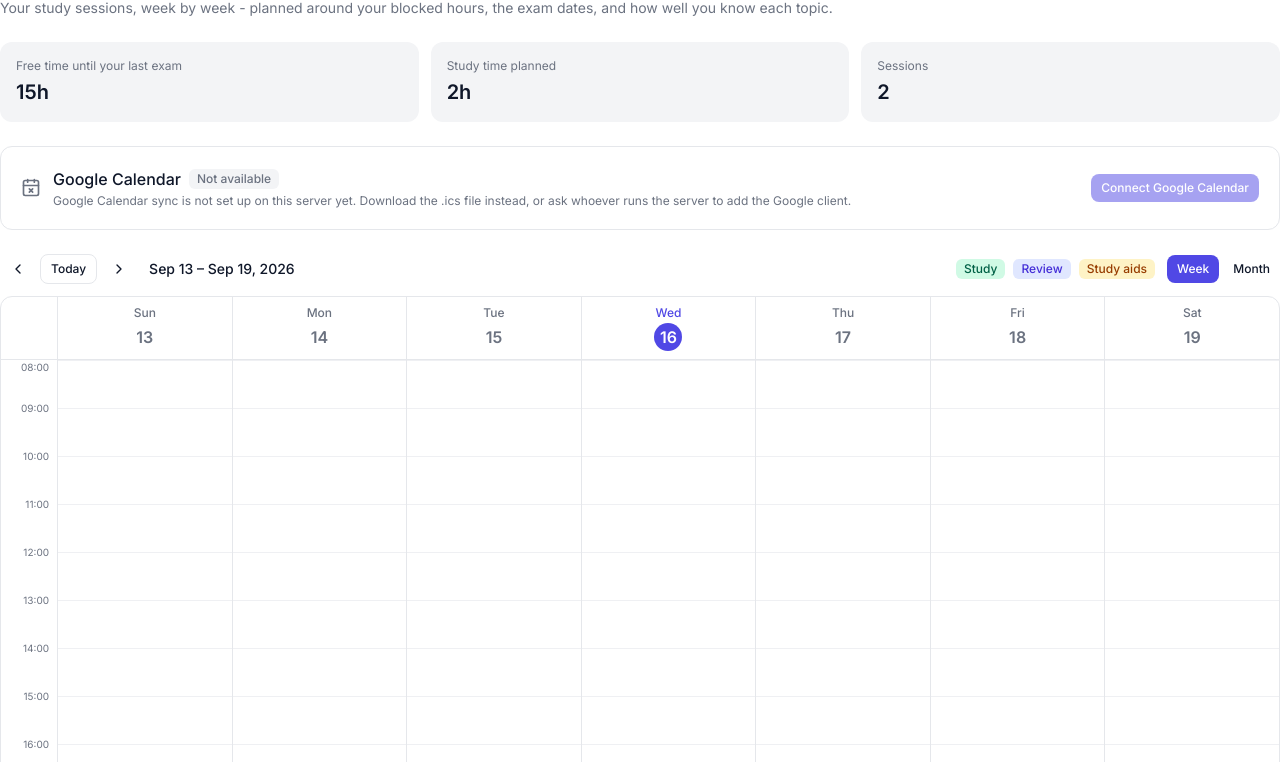
it: CalendarPage › moves between weeks
Click the button named "Next week".
click(119, 269)  # box [101,255,137,283]
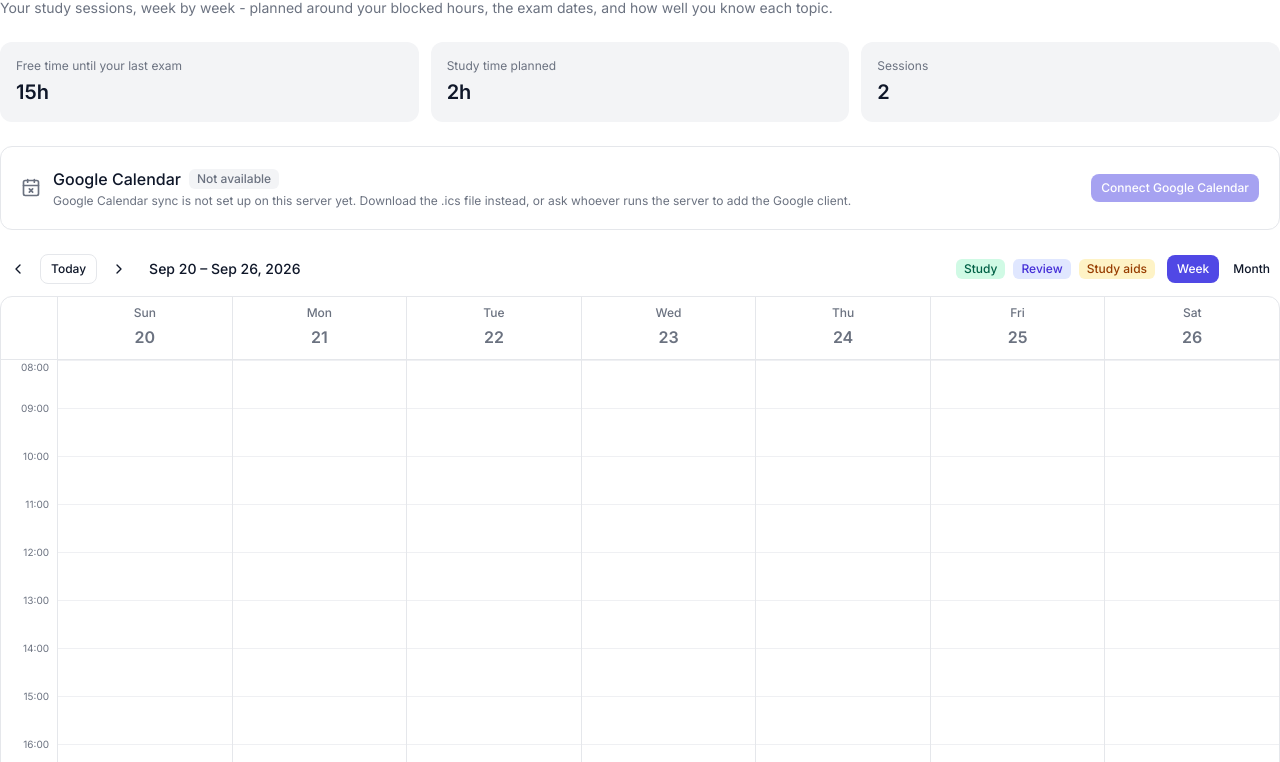
Expected: the button "Trees" is not shown
Expected: the text "Sep 20 – Sep 26, 2026" is shown, [149,259,300,279]
Click the button "Today".
click(69, 269)  # box [40,254,97,284]
(page scrolled)
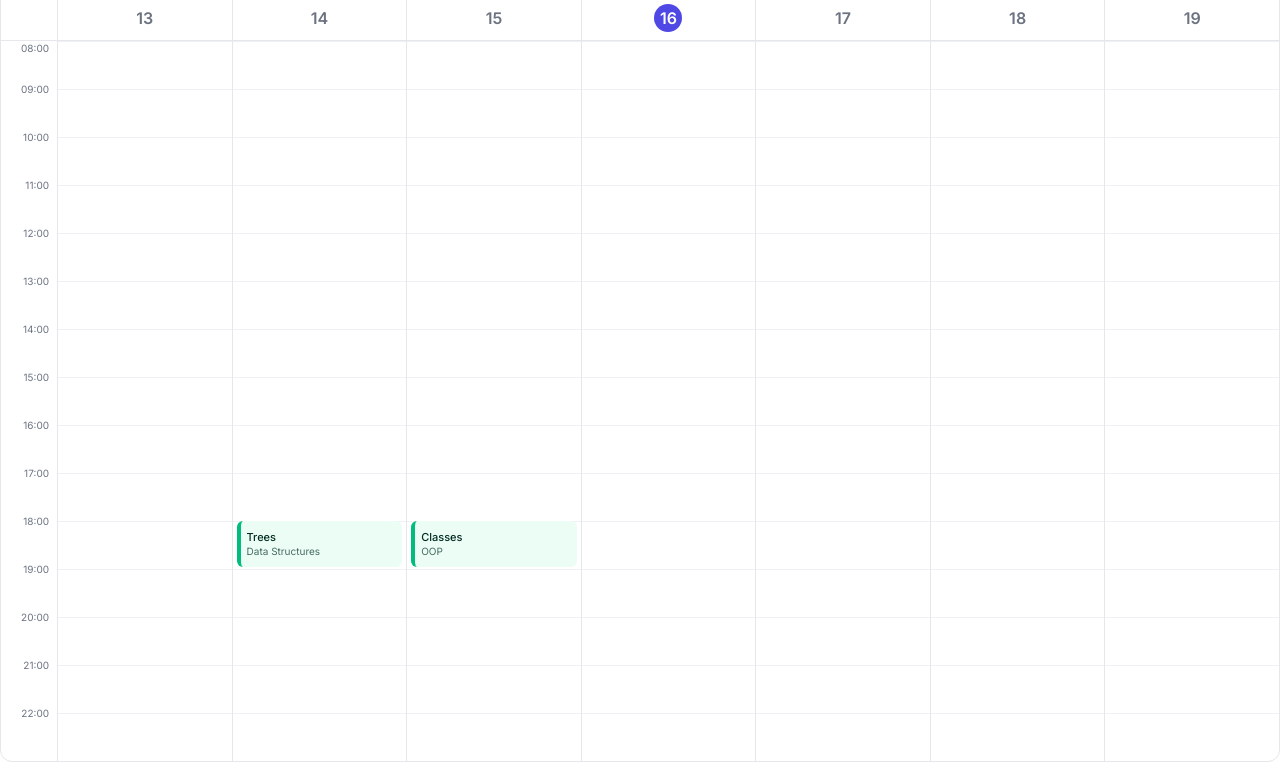
Expected: the button "Trees Data Structures" is shown, [237,521,402,567]
